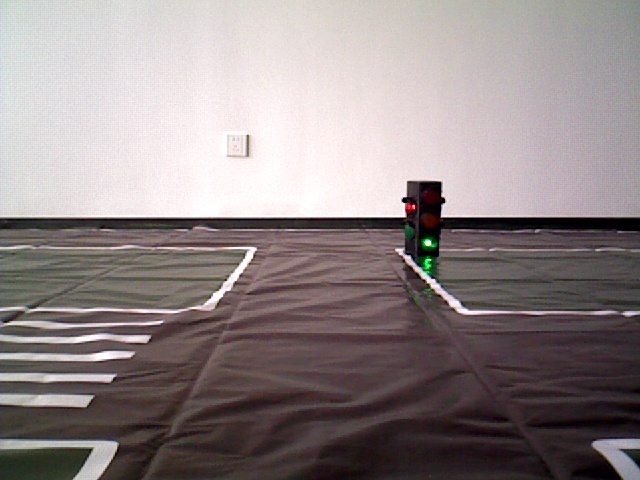green: (410, 182, 440, 253)
